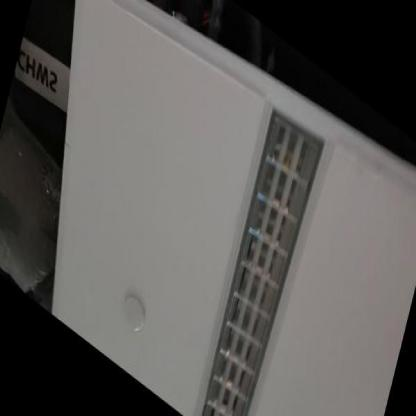light_off: (184, 75, 338, 415)
